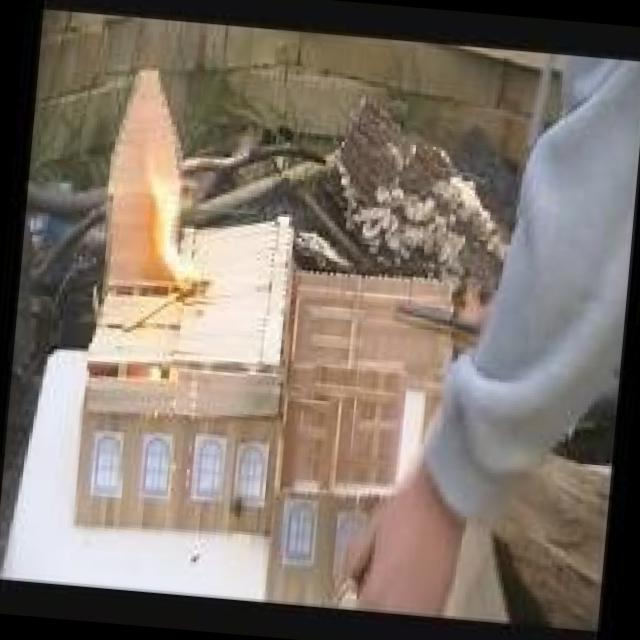fire: (120, 139, 218, 314)
